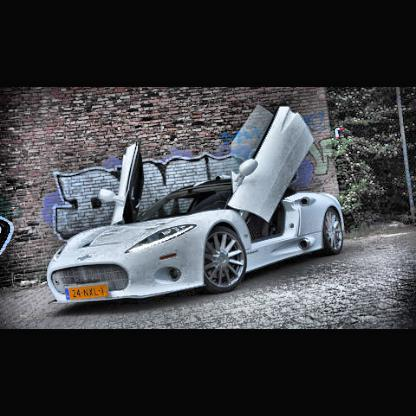Spyker C8 Coupe 2009: (46, 105, 347, 313)
